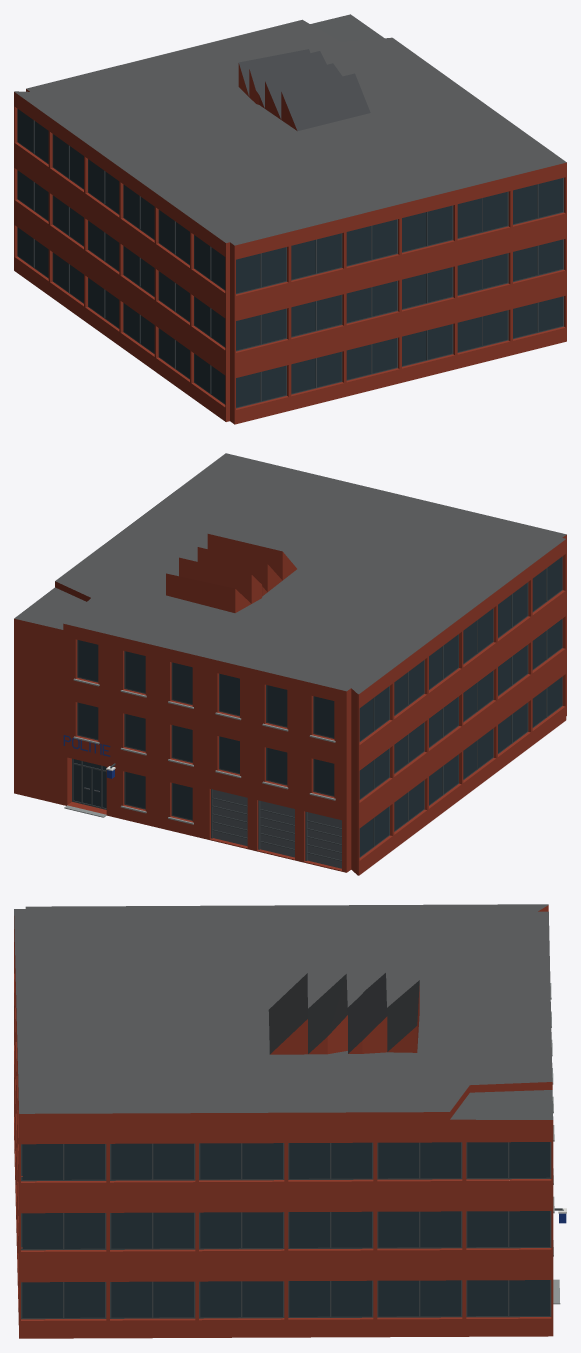
Rendered from recipe-large-politie-postjesweg.glb.
3 views of the same model, one above another, from view 1: azimuth 30°, elevation 25°; view 2: azimuth 150°, elevation 25°; view 3: azimuth 270°, elevation 25° (orthographic). The views are drawn at different scales.
Parts seen in each view (by area): view 1: politie-postjesweg; view 2: politie-postjesweg; view 3: politie-postjesweg.
Part boxes in pixels (x1,y1,x2,y2): politie-postjesweg: [14, 14, 566, 424]; politie-postjesweg: [14, 453, 566, 875]; politie-postjesweg: [14, 904, 566, 1338].
Size of the model in its own units: 22.74 by 13.21 by 25.35.
